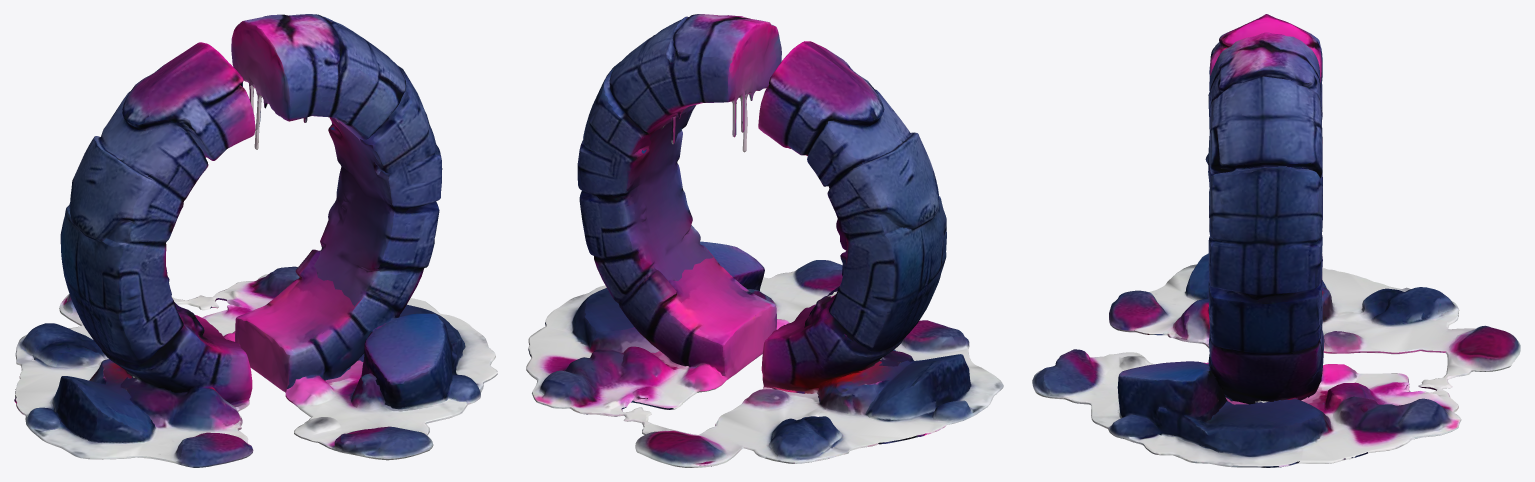
Rendered from broken-ring-generated-2026-05-17T21-20-11-613Z.medium.glb.
3 renders of one model, left to right at view 1: azimuth 30°, elevation 25°; view 2: azimuth 150°, elevation 25°; view 3: azimuth 270°, elevation 25°, orthographic. The views are drawn at different scales.
Parts seen in each view (by area): view 1: temp_mesh.ply; view 2: temp_mesh.ply; view 3: temp_mesh.ply.
Part boxes in pixels (x1=…): temp_mesh.ply: x1=14, y1=14, x2=497, y2=467; temp_mesh.ply: x1=526, y1=14, x2=1003, y2=467; temp_mesh.ply: x1=1032, y1=14, x2=1520, y2=467.
Size of the model in its own units: 1.93 by 1.47 by 1.93.
1 material, 1 textured.
